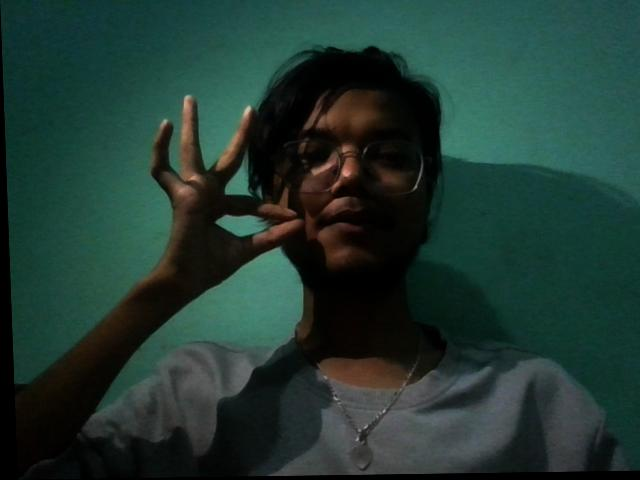Cat: (137, 86, 309, 321)
